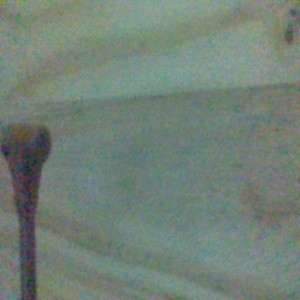palu: (1, 122, 52, 300)
